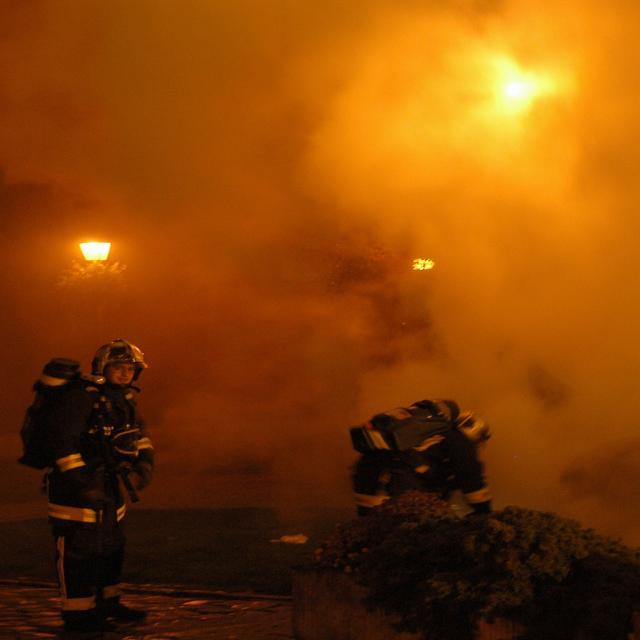Fire: (408, 245, 440, 288)
